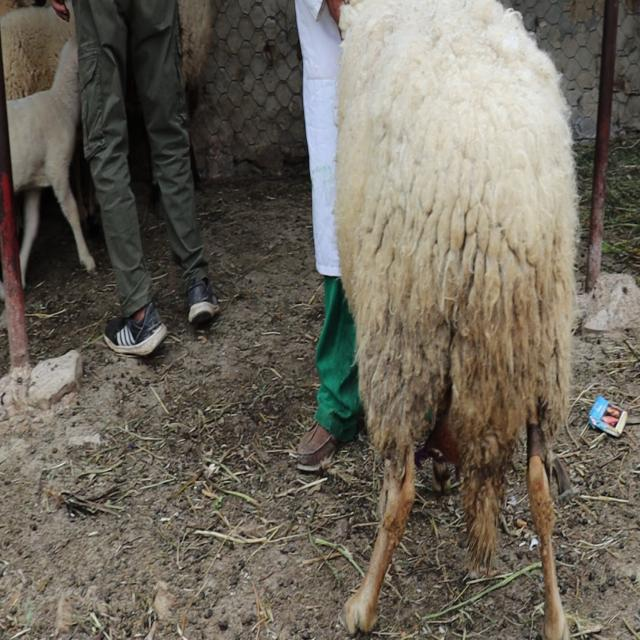Score_4: (335, 0, 578, 639)
